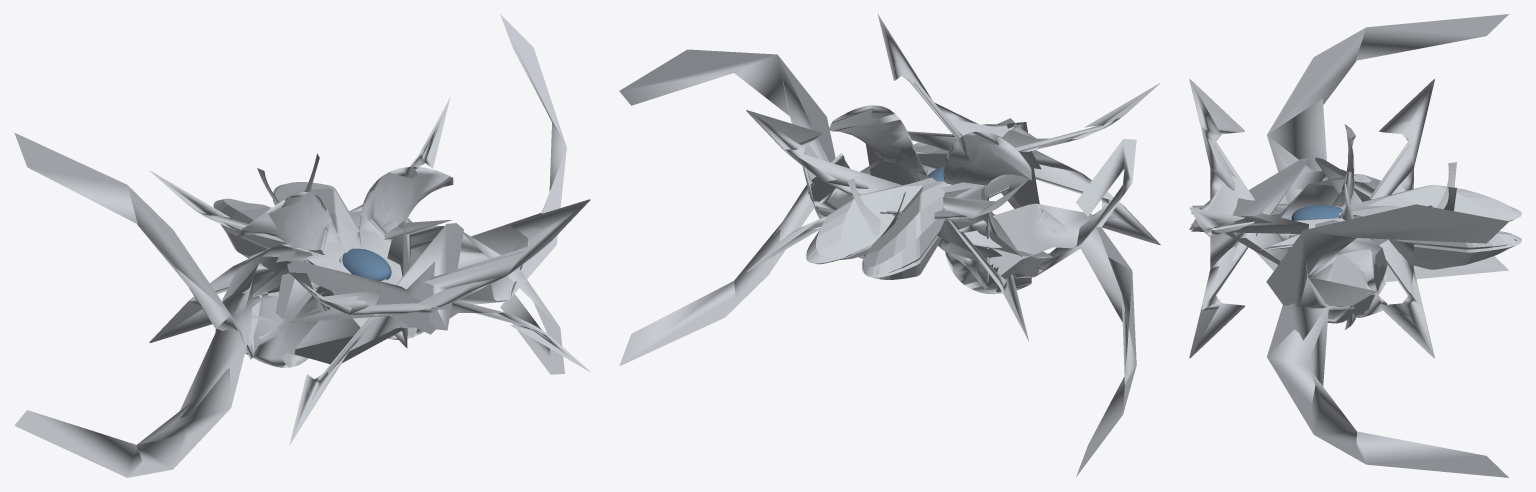
Rendered from ENE012.glb.
The picture shows the model from 3 angles, left to right: view 1: azimuth 30°, elevation 25°; view 2: azimuth 150°, elevation 25°; view 3: azimuth 270°, elevation 25°; orthographic projection. The views are drawn at different scales.
Parts seen in each view (by area): view 1: part_00, assembly_wing_r, assembly_subwing_r, assembly_fuselage, assembly_canopy; view 2: part_00, assembly_wing_r, assembly_fuselage, assembly_subwing_r, assembly_tail_r; view 3: part_00, assembly_wing_r, assembly_fuselage, assembly_subwing_r, assembly_canopy, assembly_tail_r.
Boxes of the visible parts, x1,y1,x2,y2 form: part_00: [14, 14, 566, 477]; assembly_wing_r: [149, 97, 590, 445]; assembly_subwing_r: [236, 167, 453, 367]; assembly_fuselage: [213, 182, 402, 314]; assembly_canopy: [342, 248, 391, 280]; part_00: [619, 49, 1136, 476]; assembly_wing_r: [746, 14, 1160, 340]; assembly_fuselage: [806, 169, 1008, 279]; assembly_subwing_r: [828, 105, 1031, 294]; assembly_tail_r: [847, 178, 905, 236]; part_00: [1255, 14, 1508, 477]; assembly_wing_r: [1189, 79, 1434, 358]; assembly_fuselage: [1260, 184, 1521, 269]; assembly_subwing_r: [1332, 124, 1355, 329]; assembly_canopy: [1291, 205, 1342, 220]; assembly_tail_r: [1436, 162, 1456, 210].
Bounding box in the file's own units: 9.29 × 5.54 × 6.3.
